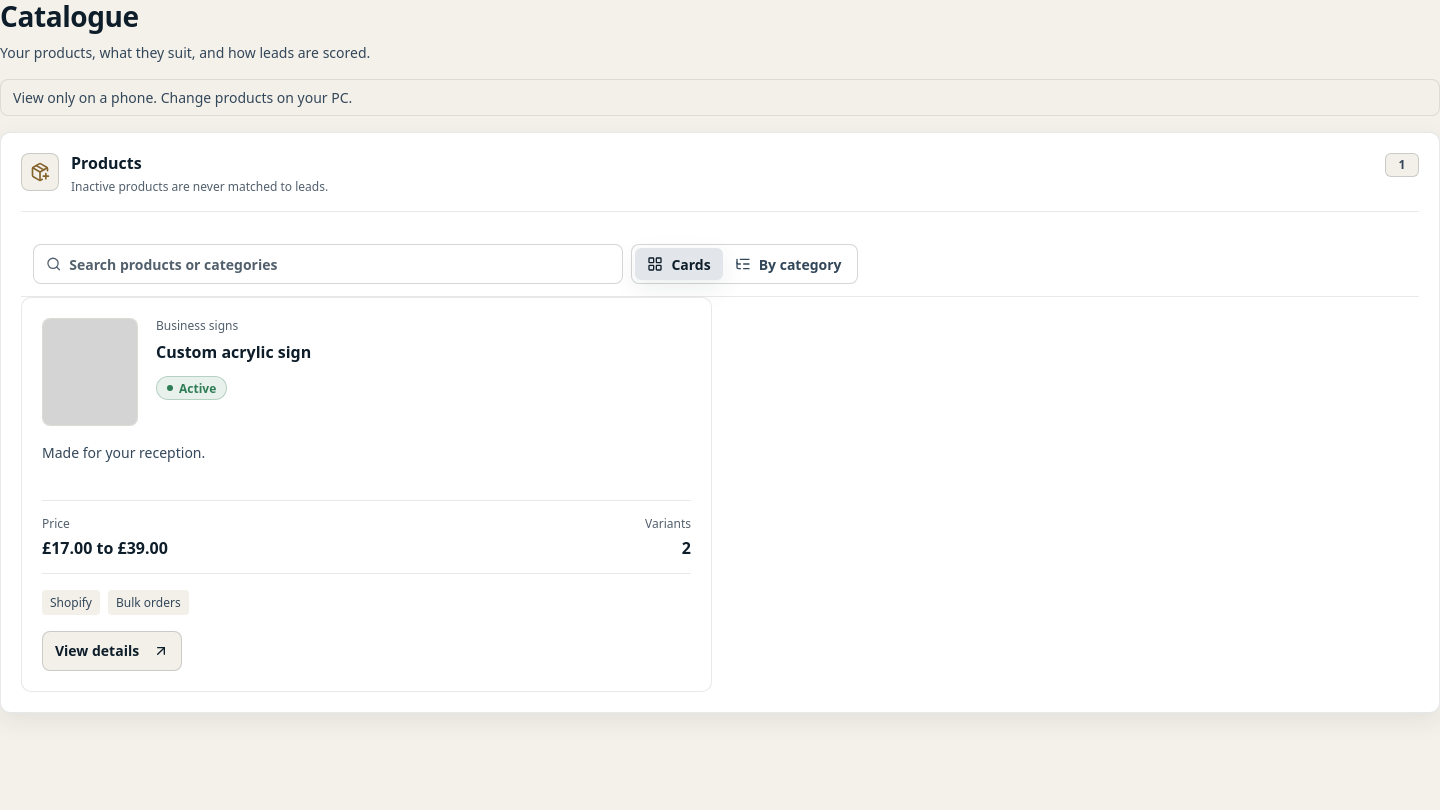
Test: Catalogue product details › opens product details from a category on a phone
What coordinates should you click on to do the following:
click the button "By category"
I would click on:
 (788, 264)
Its box is [723, 248, 854, 280].
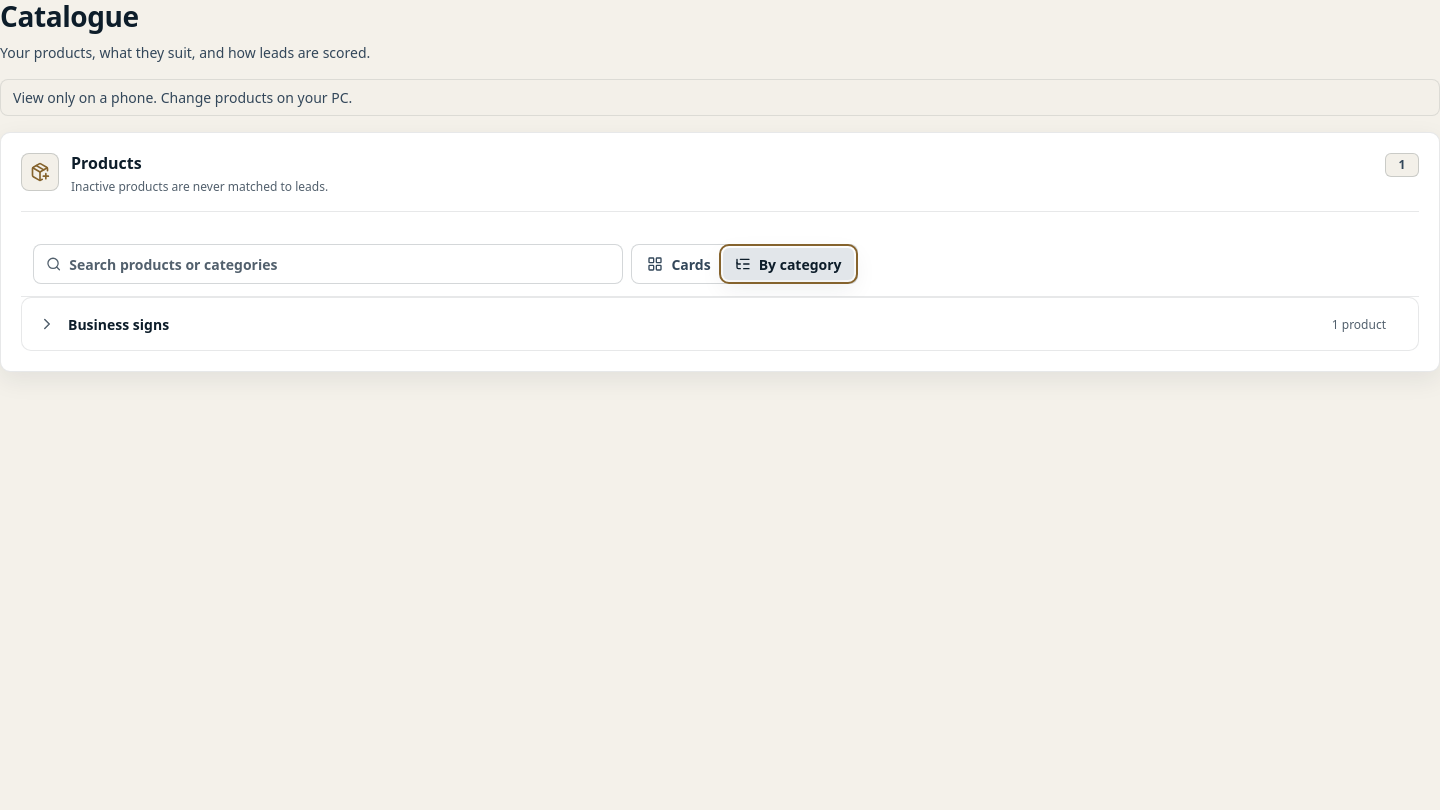
What coordinates should you click on to do the following:
click the button "Business signs 1 product"
I would click on:
 (119, 324)
Its box is [22, 298, 1402, 350].
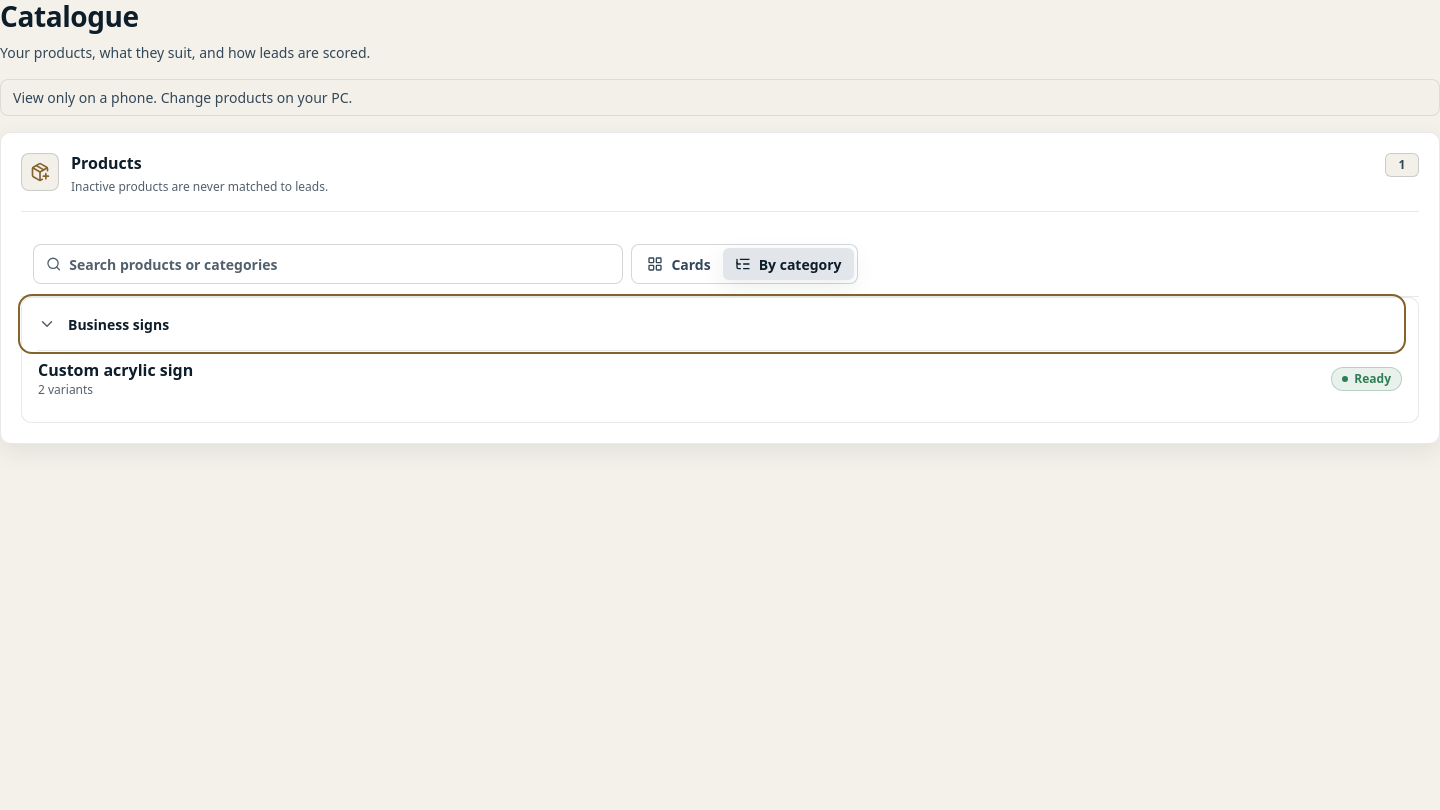
What coordinates should you click on to do the following:
click the button "Custom acrylic sign"
I would click on:
 (116, 370)
Its box is [38, 360, 1319, 382].
(page scrolled)
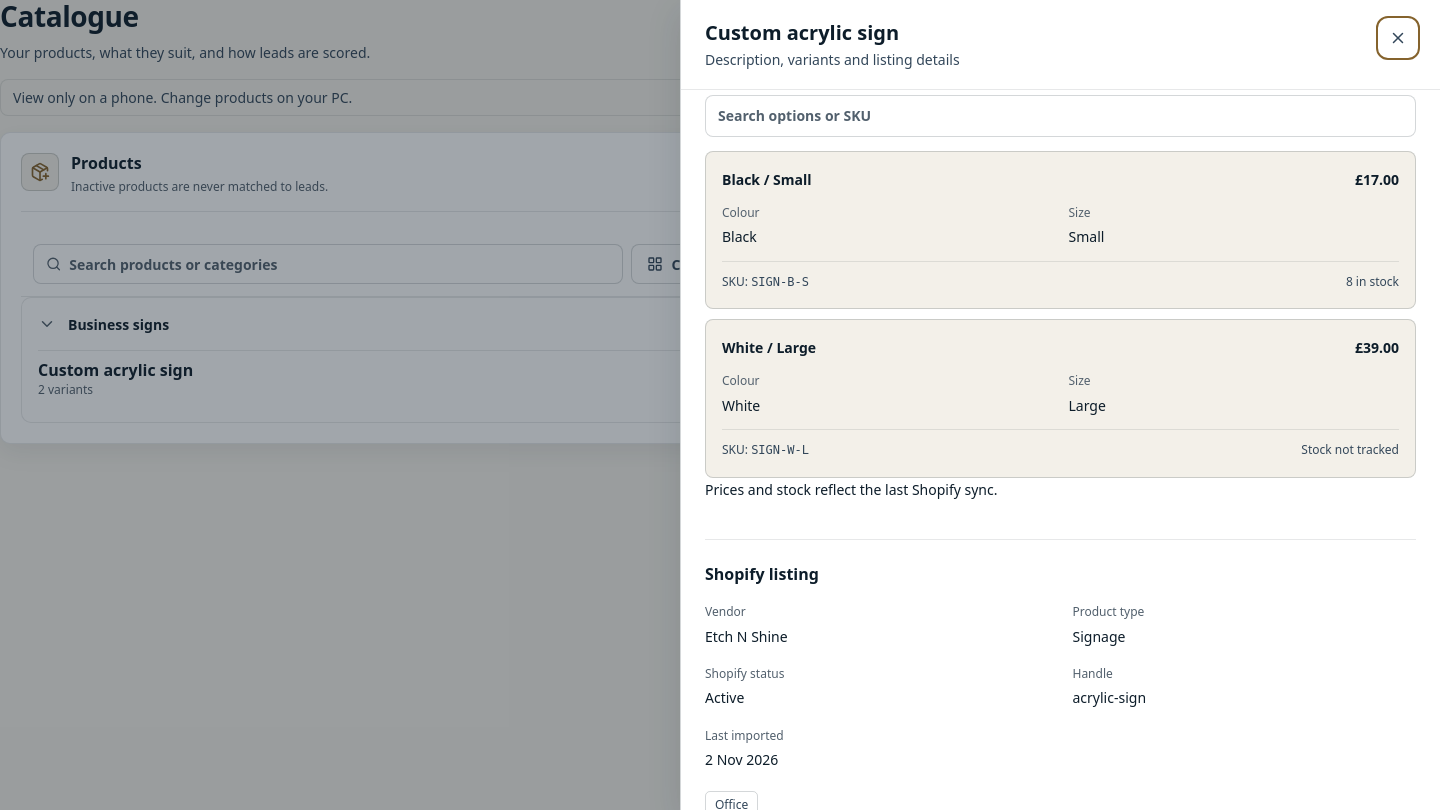
Expected: the dialog "Custom acrylic sign" is shown, [680, 0, 1439, 809]
Expected: the text "SIGN-W-L" is shown, [751, 443, 809, 457]
